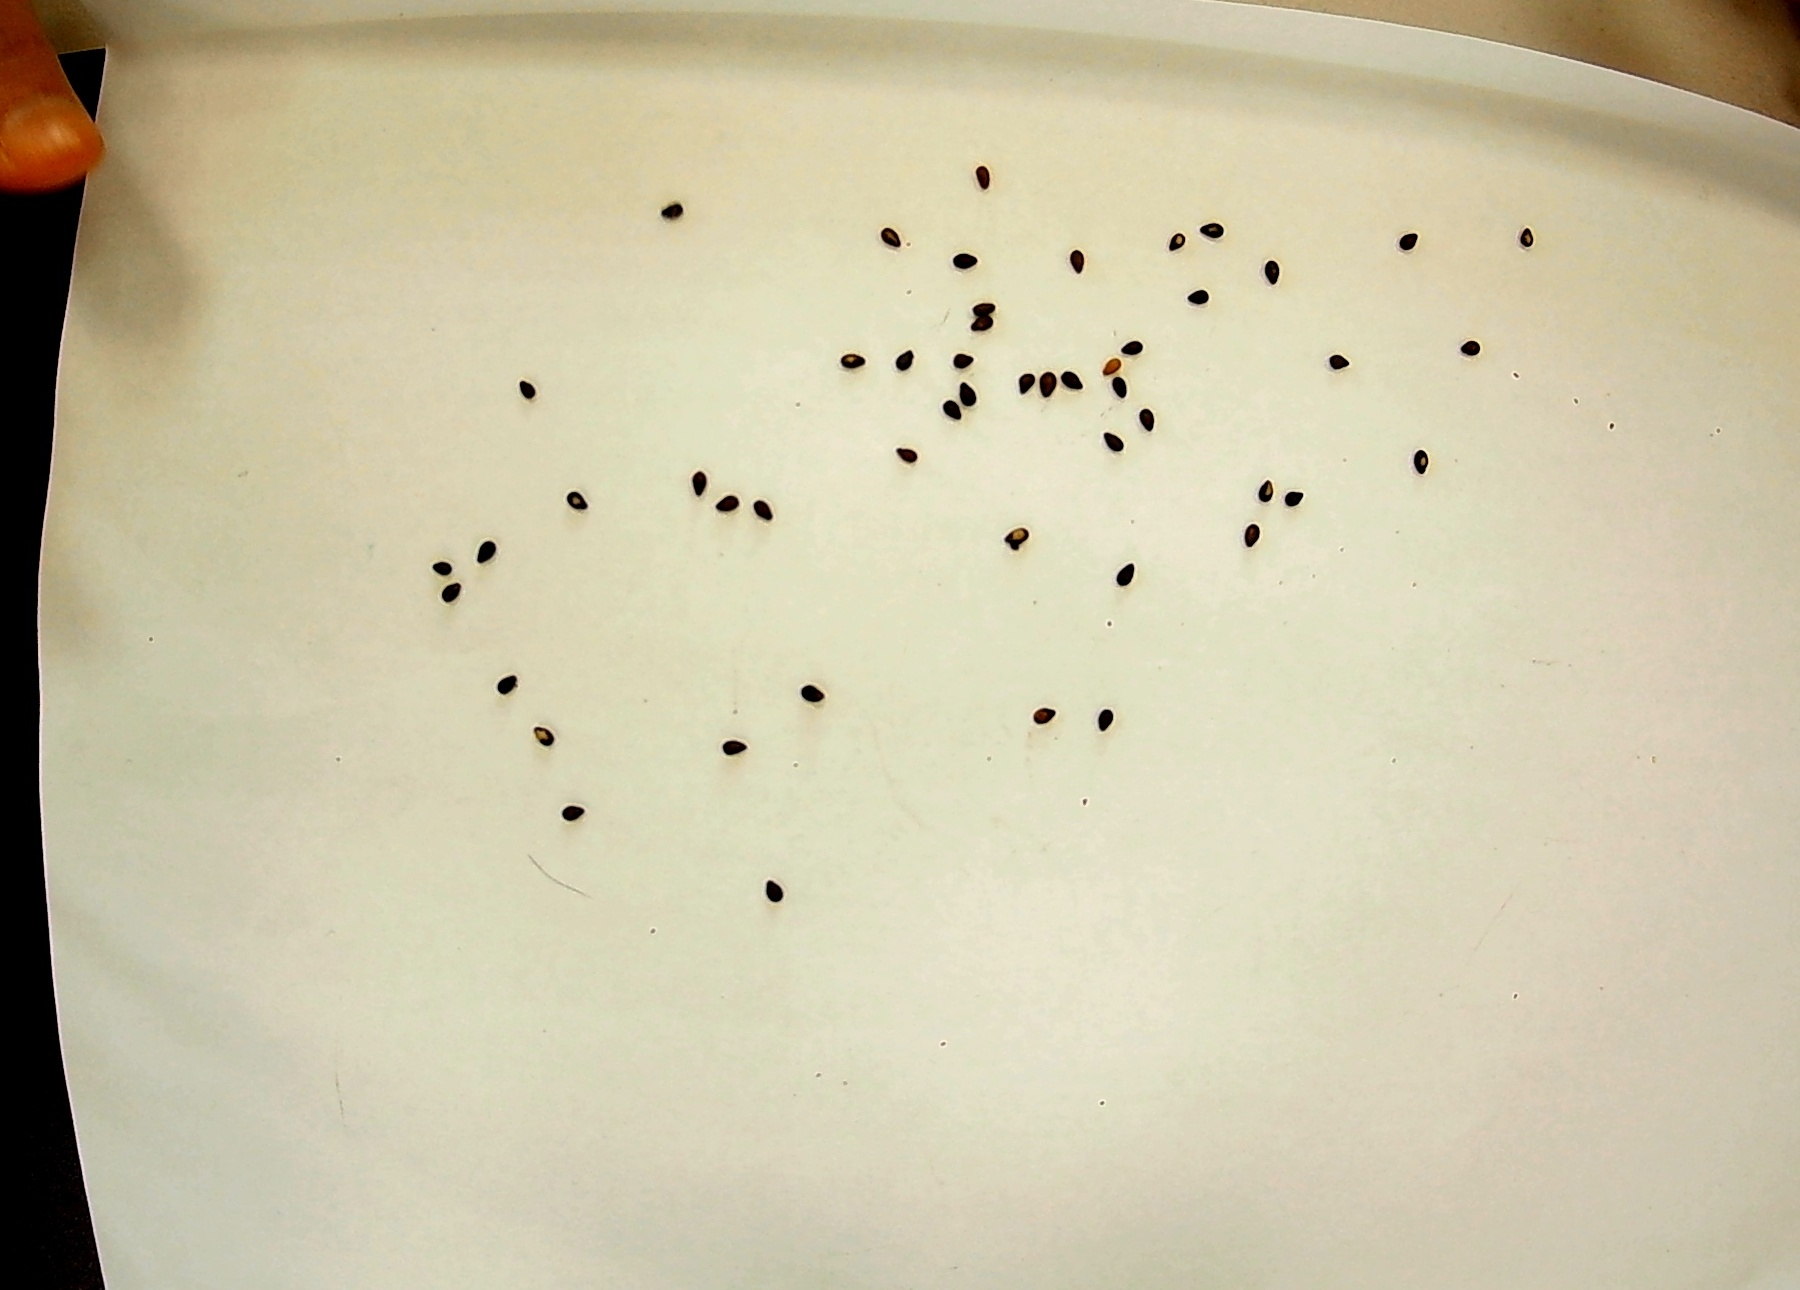sesami: (463, 531, 507, 577), (515, 708, 560, 751), (657, 201, 705, 237), (1245, 468, 1280, 515), (999, 517, 1037, 560), (1155, 221, 1193, 261), (747, 498, 794, 531), (1404, 434, 1439, 477), (786, 674, 834, 705), (681, 462, 721, 498), (1021, 702, 1067, 733), (720, 729, 759, 764), (968, 149, 998, 195), (1088, 702, 1120, 744), (507, 369, 541, 406), (714, 482, 747, 522), (875, 214, 907, 253), (1324, 345, 1360, 378), (480, 663, 518, 695), (1060, 349, 1086, 396), (1113, 560, 1146, 596), (1280, 484, 1312, 519), (1196, 214, 1222, 255), (1139, 390, 1161, 437), (1388, 223, 1420, 255), (957, 376, 989, 408), (435, 584, 479, 607), (1065, 237, 1088, 281), (1454, 322, 1482, 359), (1240, 512, 1268, 549), (968, 318, 1016, 339), (554, 794, 585, 826), (759, 874, 788, 907), (1254, 257, 1289, 283), (1176, 285, 1214, 309), (939, 398, 973, 424), (968, 293, 1007, 316), (1111, 371, 1134, 408), (1518, 228, 1542, 262), (1118, 331, 1146, 360), (833, 348, 871, 369), (555, 491, 599, 510), (897, 437, 922, 468), (1102, 423, 1125, 457), (426, 556, 455, 581), (1013, 369, 1038, 398), (947, 249, 981, 269), (896, 348, 920, 376), (1041, 370, 1059, 403), (952, 350, 982, 370), (1095, 350, 1120, 373)
